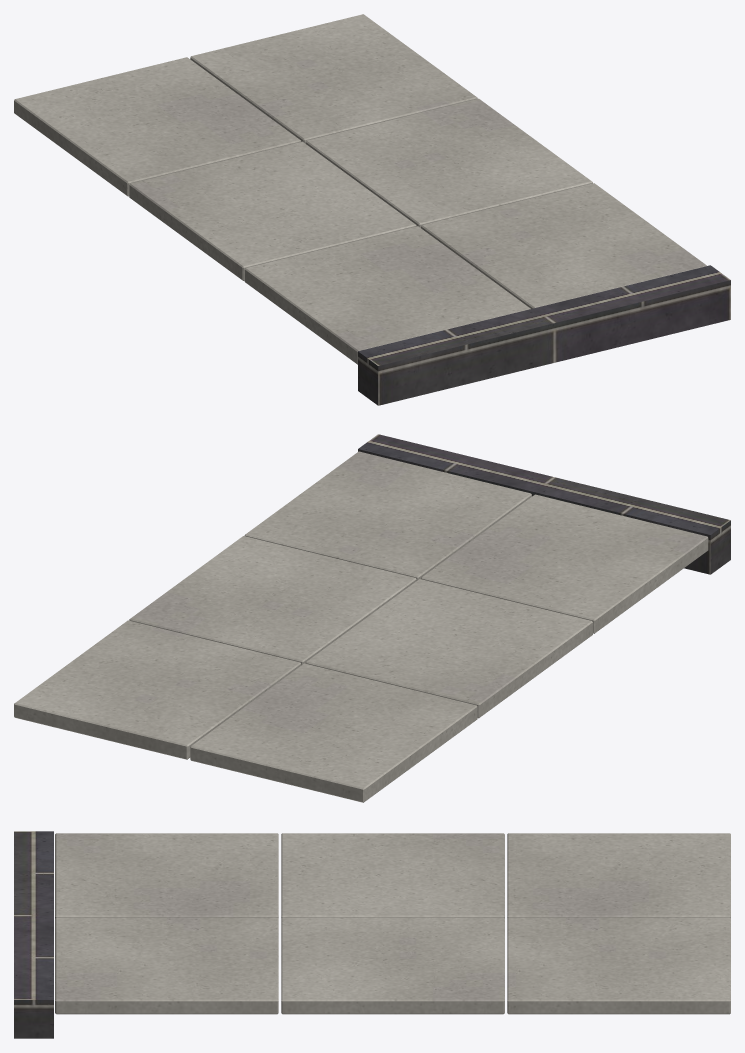
The model's file is sidewalk.glb.
3 renders of one model, top to bottom at view 1: azimuth 30°, elevation 25°; view 2: azimuth 150°, elevation 25°; view 3: azimuth 270°, elevation 25°, orthographic. The views are drawn at different scales.
Parts seen in each view (by area): view 1: sidewalk_concrete, sidewalk_plinth; view 2: sidewalk_concrete, sidewalk_plinth; view 3: sidewalk_concrete, sidewalk_plinth.
Part boxes in pixels (left/top/right/bottom): sidewalk_concrete: left=14, top=14, right=706, bottom=364; sidewalk_plinth: left=358, top=265, right=730, bottom=405; sidewalk_concrete: left=14, top=451, right=708, bottom=802; sidewalk_plinth: left=358, top=434, right=730, bottom=574; sidewalk_concrete: left=55, top=833, right=730, bottom=1014; sidewalk_plinth: left=14, top=831, right=53, bottom=1038.
Size of the model in its own units: 2 by 0.215 by 3.59.
Materials: 2 (2 with a texture image).
